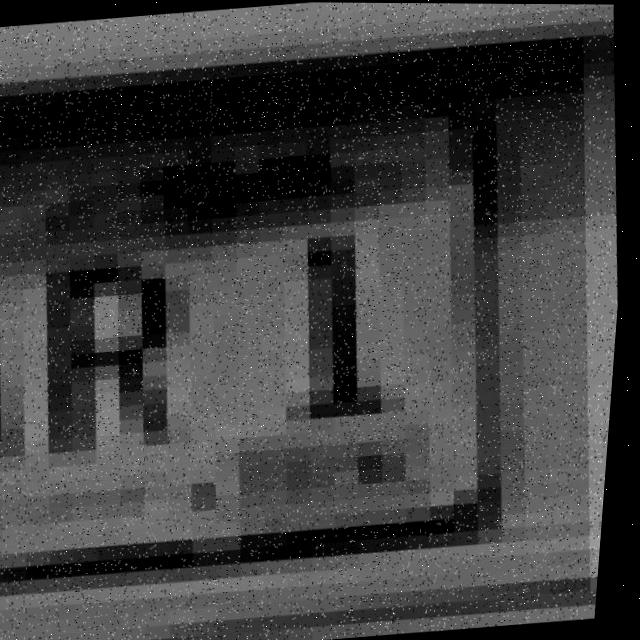LicensePlate: (0, 33, 631, 640)
